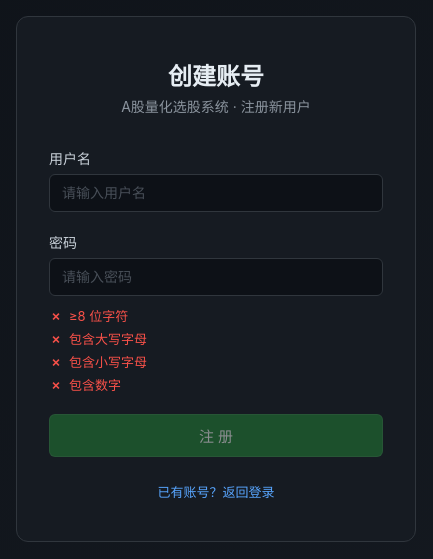
Test: RegisterView › 密码部分满足条件时正确显示 ✓ 和 ✗
Type "short" into the password field with id "reg-password" at x=216, y=277, box [49,258,383,296]
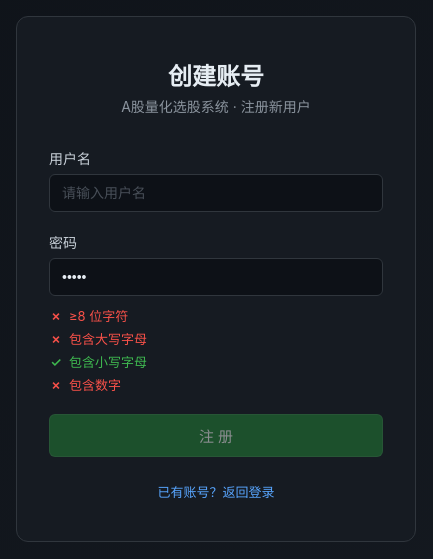
Expected: the number of list items with class "rule-pass" is 1, [50,354,147,370]
Expected: the number of list items with class "rule-fail" is 3, [50,308,128,324]; [50,330,147,347]; [50,376,121,393]
